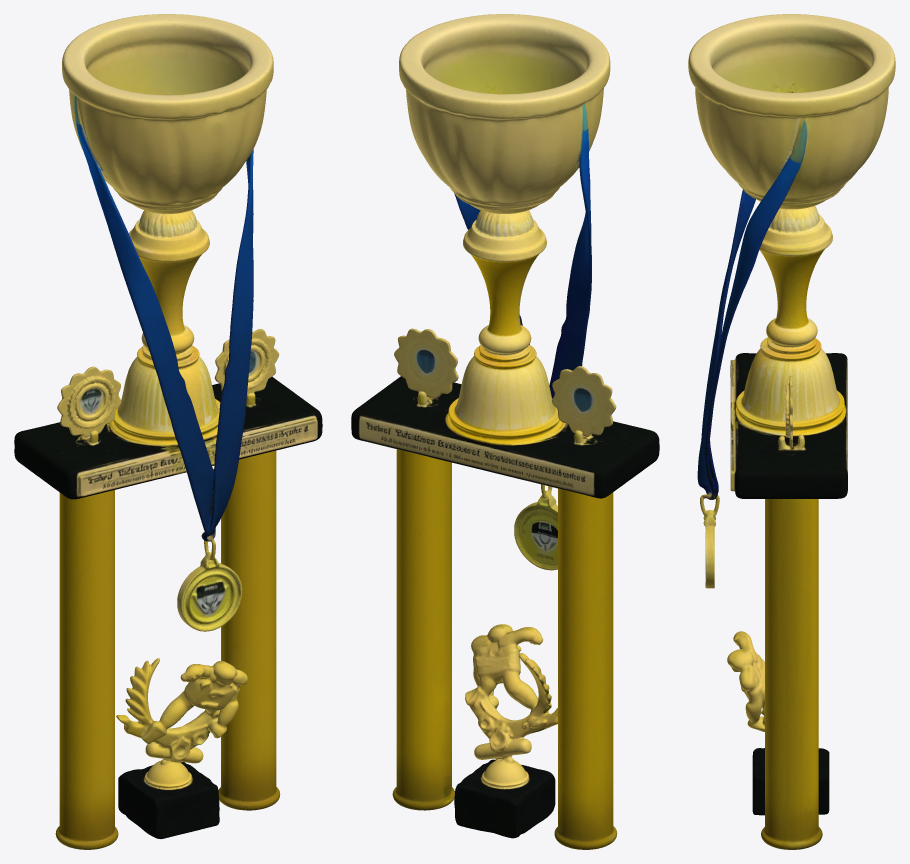
Rendered from roumanie.glb.
3 views of the same model, side by side, from view 1: azimuth 30°, elevation 25°; view 2: azimuth 150°, elevation 25°; view 3: azimuth 270°, elevation 25° (orthographic). The views are drawn at different scales.
Parts seen in each view (by area): view 1: mesh_node; view 2: mesh_node; view 3: mesh_node.
Part boxes in pixels (left/top/right/bottom): mesh_node: left=14, top=14, right=322, bottom=849; mesh_node: left=351, top=14, right=659, bottom=849; mesh_node: left=688, top=14, right=895, bottom=849.
Bounding box in the file's own units: 0.6661 × 1.9 × 0.4793.
1 material, 1 textured.
